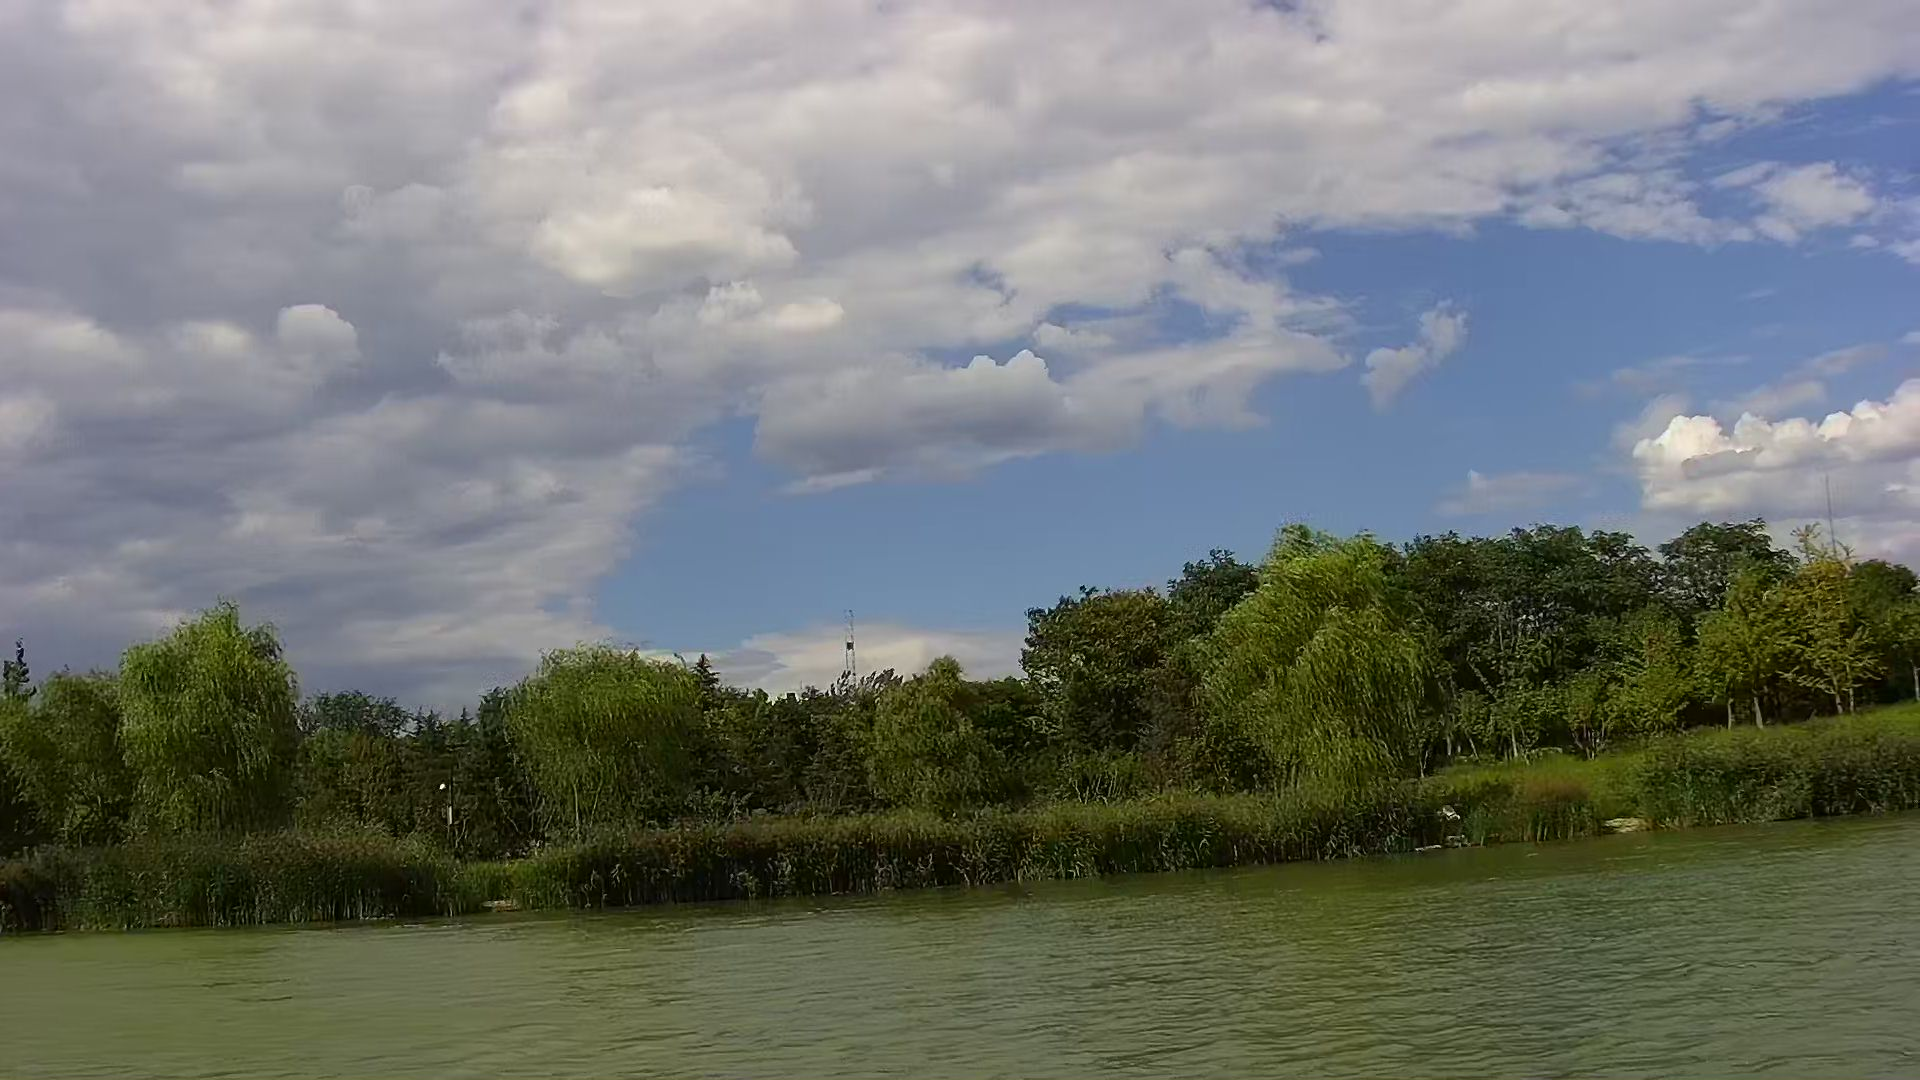rock: (1600, 818, 1652, 833)
